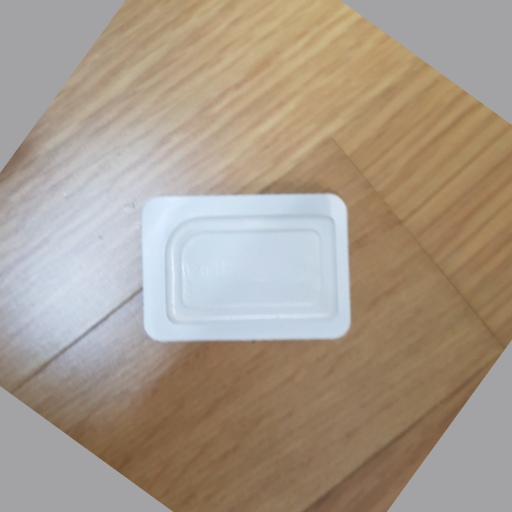Plastic_4: (137, 192, 352, 344)
